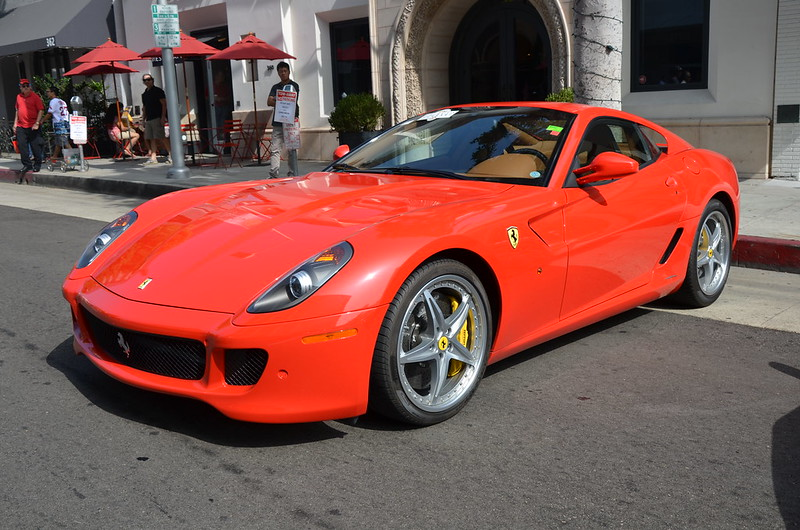car: (57, 96, 761, 429)
